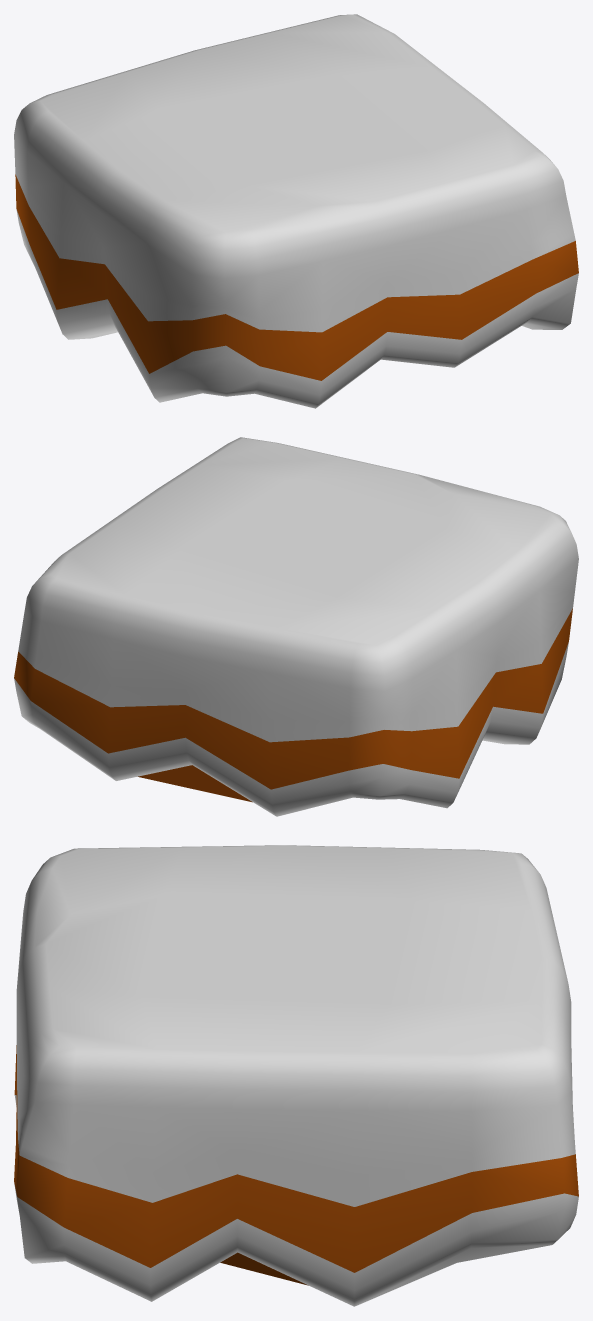
Rendered from grass.fbx.
3 renders of one model, top to bottom at view 1: azimuth 30°, elevation 25°; view 2: azimuth 150°, elevation 25°; view 3: azimuth 270°, elevation 25°, orthographic. The views are drawn at different scales.
Parts seen in each view (by area): view 1: Box010; view 2: Box010; view 3: Box010.
Part boxes in pixels (bbox=[...]): Box010: bbox=[14, 14, 578, 408]; Box010: bbox=[14, 437, 578, 816]; Box010: bbox=[14, 845, 578, 1306].
Size of the model in its own units: 219 by 109 by 223.
